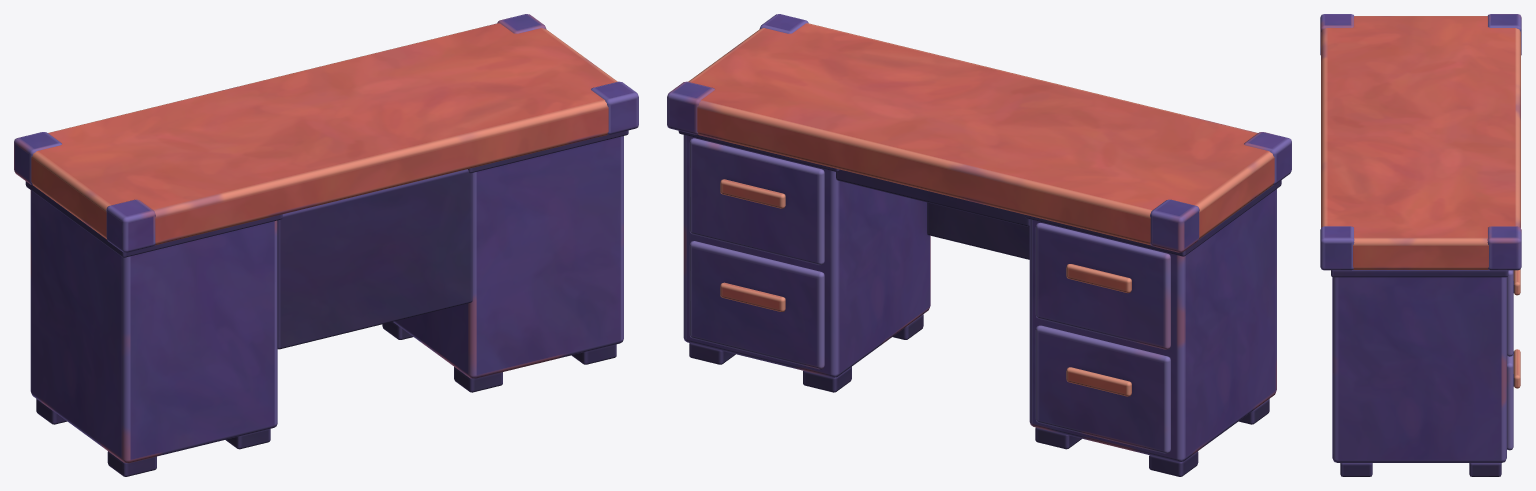
The model's file is bg_claude_a01.glb.
3 views of the same model, side by side, from view 1: azimuth 30°, elevation 25°; view 2: azimuth 150°, elevation 25°; view 3: azimuth 270°, elevation 25° (orthographic). The views are drawn at different scales.
Visible parts, largest first — view 1: body, top; view 2: top, body, drawers; view 3: top, body, drawers.
Part boxes in pixels (bbox=[...]): body: bbox=[25, 130, 628, 476]; top: bbox=[14, 14, 638, 252]; top: bbox=[667, 14, 1291, 252]; body: bbox=[678, 131, 1281, 476]; drawers: bbox=[689, 138, 1170, 453]; top: bbox=[1320, 14, 1521, 270]; body: bbox=[1331, 270, 1508, 476]; drawers: bbox=[1507, 269, 1520, 450].
Size of the model in its own units: 2 by 1 by 0.75.
1 material, 1 textured.
